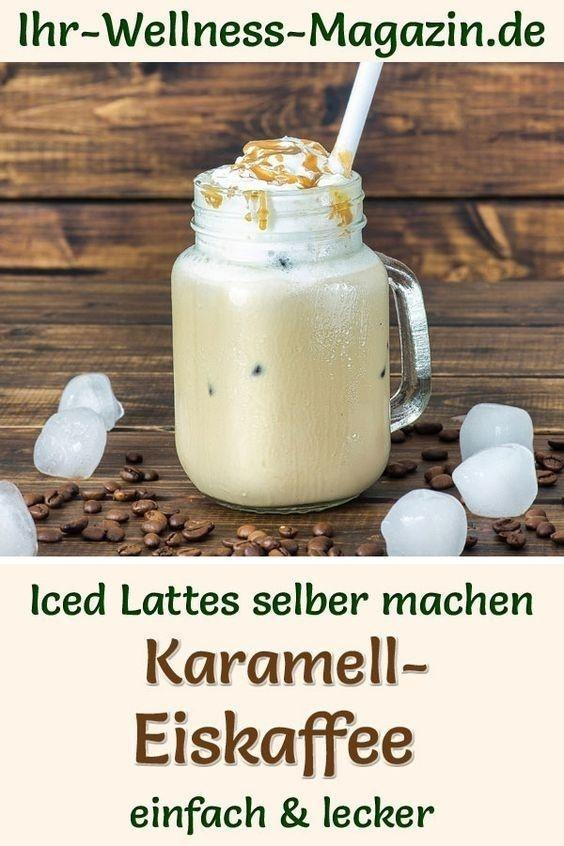glass-mug: (167, 150, 434, 517)
